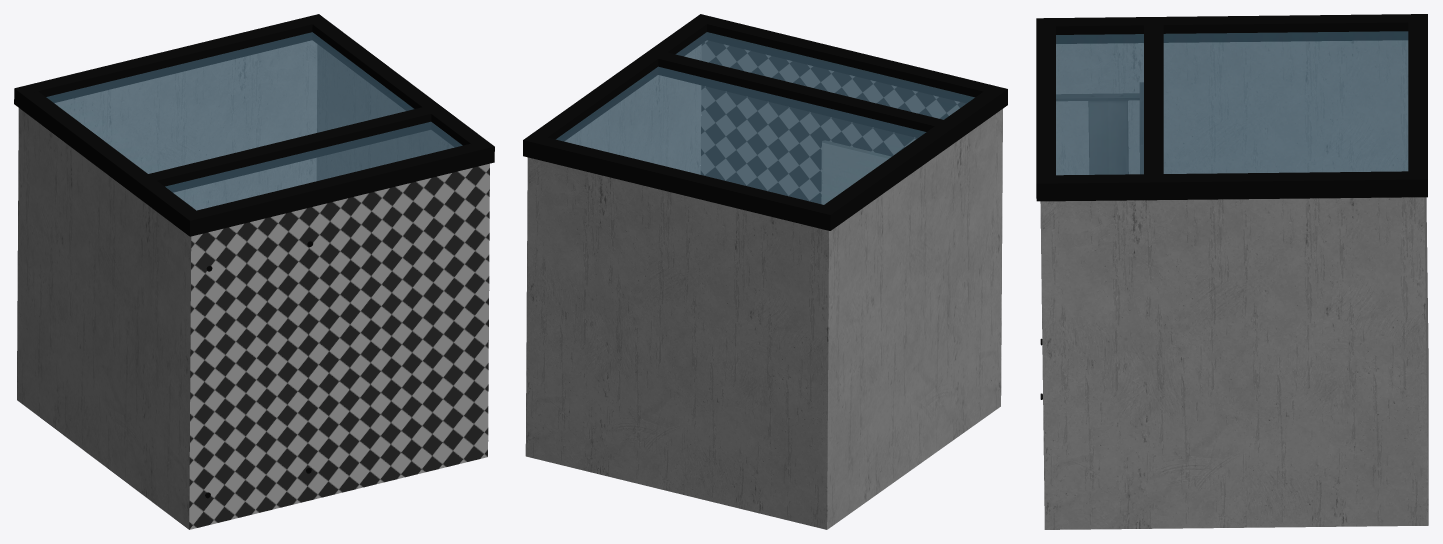
File: window_half.glb
The picture shows the model from 3 angles, left to right: view 1: azimuth 30°, elevation 25°; view 2: azimuth 150°, elevation 25°; view 3: azimuth 270°, elevation 25°; orthographic projection. The views are drawn at different scales.
Parts seen in each view (by area): view 1: Plane, Plane.002, vidro, Cube.005, room_light; view 2: room_light, Plane.002, vidro, Cube.005, Plane, lab_desk01; view 3: Plane.002, vidro, Cube.005, lab_desk01, room_light.
Part boxes in pixels (x1,y1,x2,y2): Plane: (189,163,489,529); Plane.002: (17,44,489,529); vidro: (46,32,462,210); Cube.005: (14,14,494,236); room_light: (54,40,317,210); room_light: (525,157,828,529); Plane.002: (525,44,1002,529); vidro: (556,32,974,204); Cube.005: (523,14,1007,230); Plane: (700,40,965,203); lab_desk01: (821,140,891,204); Plane.002: (1040,40,1428,529); vidro: (1056,31,1408,175); Cube.005: (1036,14,1427,201); lab_desk01: (1040,82,1143,399); room_light: (1424,197,1428,510).
Bounding box in the file's own units: 2.04 × 2.02 × 2.04.
7 materials, 6 textured.
